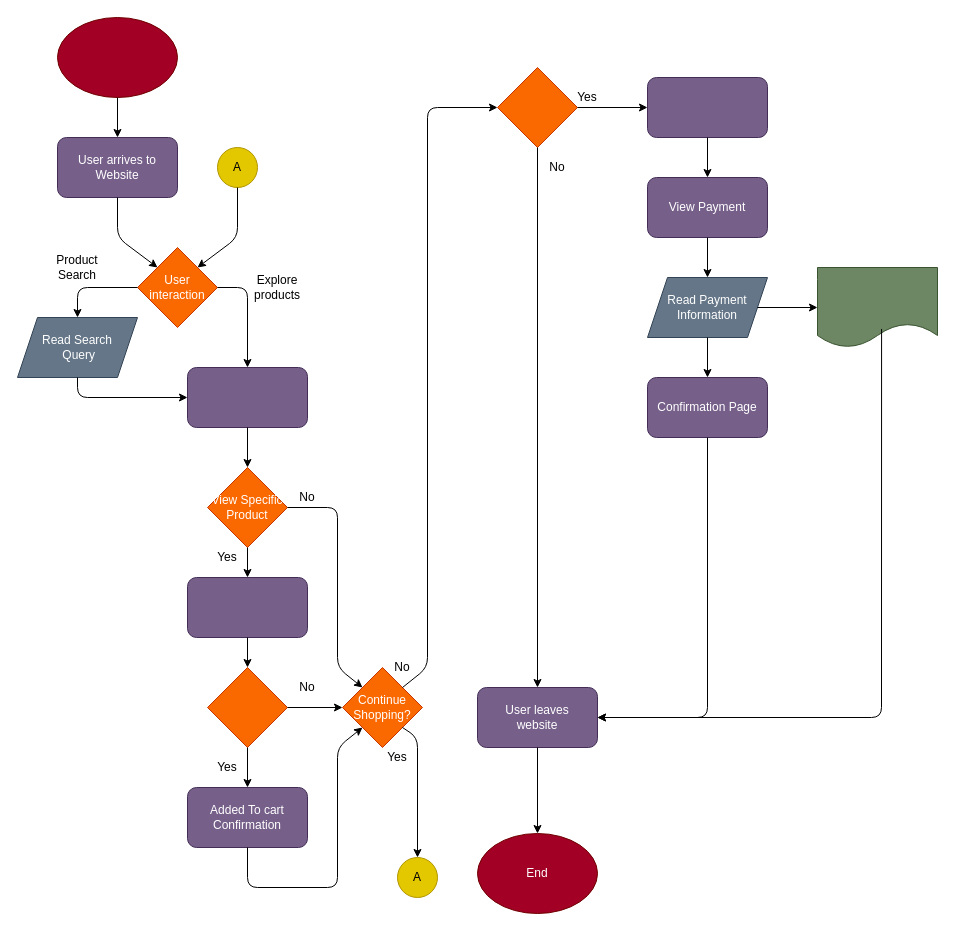
Some shapes in this 955 by 931 pixel diagram are drawn without their labels. Here are the shapes that lost their labels. From the top down, the centre of each, then its label:
[117,57]: Start
[537,107]: Check Out?
[707,107]: View Cart
[877,307]: Confirmation Email
[247,397]: Products displayed
[247,607]: Product's Webpage
[247,707]: Add item to cart?
